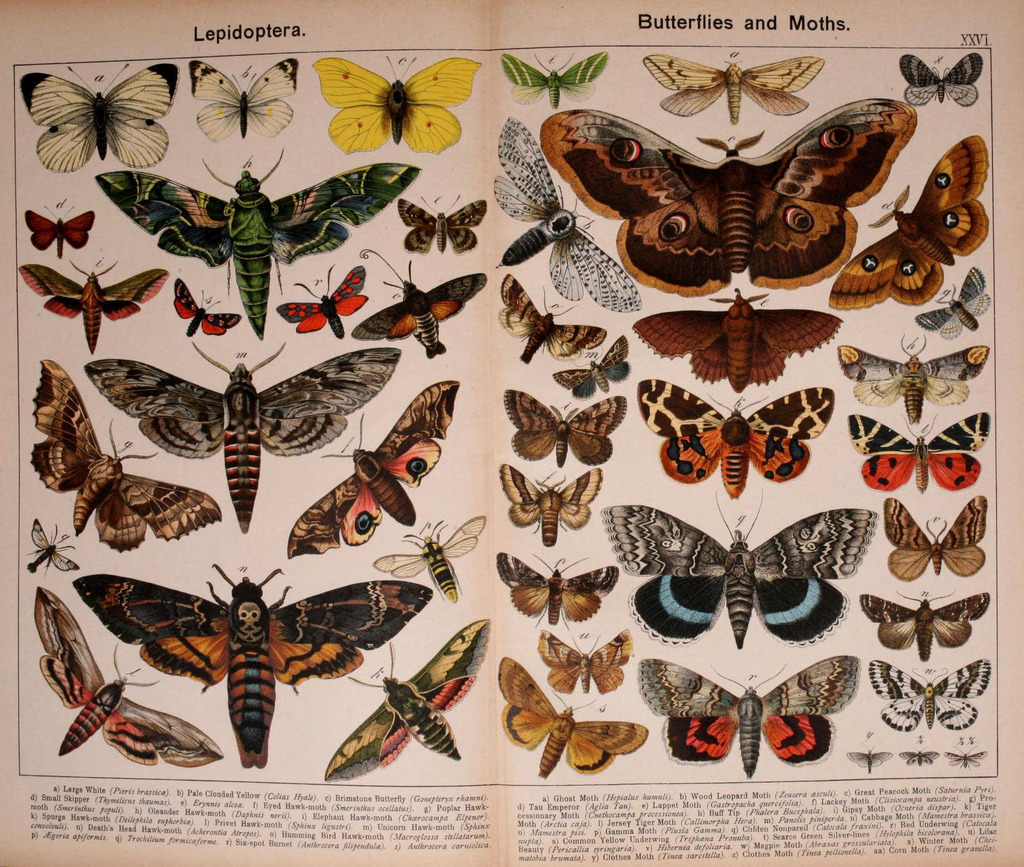Butterfly: (535, 103, 930, 297), (70, 565, 450, 765), (107, 174, 404, 331), (86, 348, 397, 481), (607, 494, 867, 644), (27, 362, 211, 561), (635, 647, 865, 784), (639, 379, 838, 497), (634, 291, 872, 385), (315, 49, 488, 163), (495, 657, 647, 779), (20, 65, 181, 168), (625, 48, 829, 126), (484, 452, 626, 558), (838, 409, 1000, 495), (836, 332, 999, 411), (190, 58, 303, 156), (875, 657, 1007, 735), (491, 550, 618, 630), (881, 499, 995, 585), (503, 391, 631, 465), (867, 586, 998, 654), (873, 50, 999, 113), (503, 52, 621, 108), (16, 206, 112, 262), (397, 197, 491, 250)
